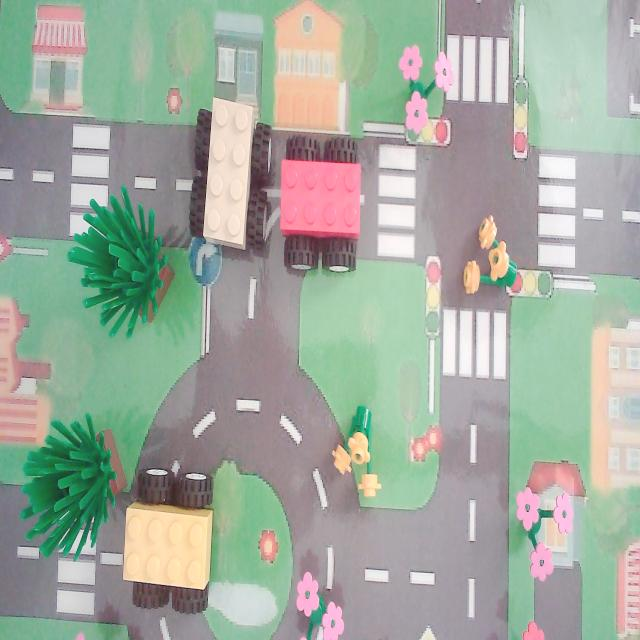Car: (115, 453, 222, 628), (180, 93, 278, 272), (275, 128, 371, 288)
Flower: (498, 455, 578, 595), (392, 38, 474, 154), (323, 390, 395, 522), (266, 566, 360, 640), (454, 211, 524, 303)
Tree: (62, 168, 180, 380), (28, 399, 130, 590)
